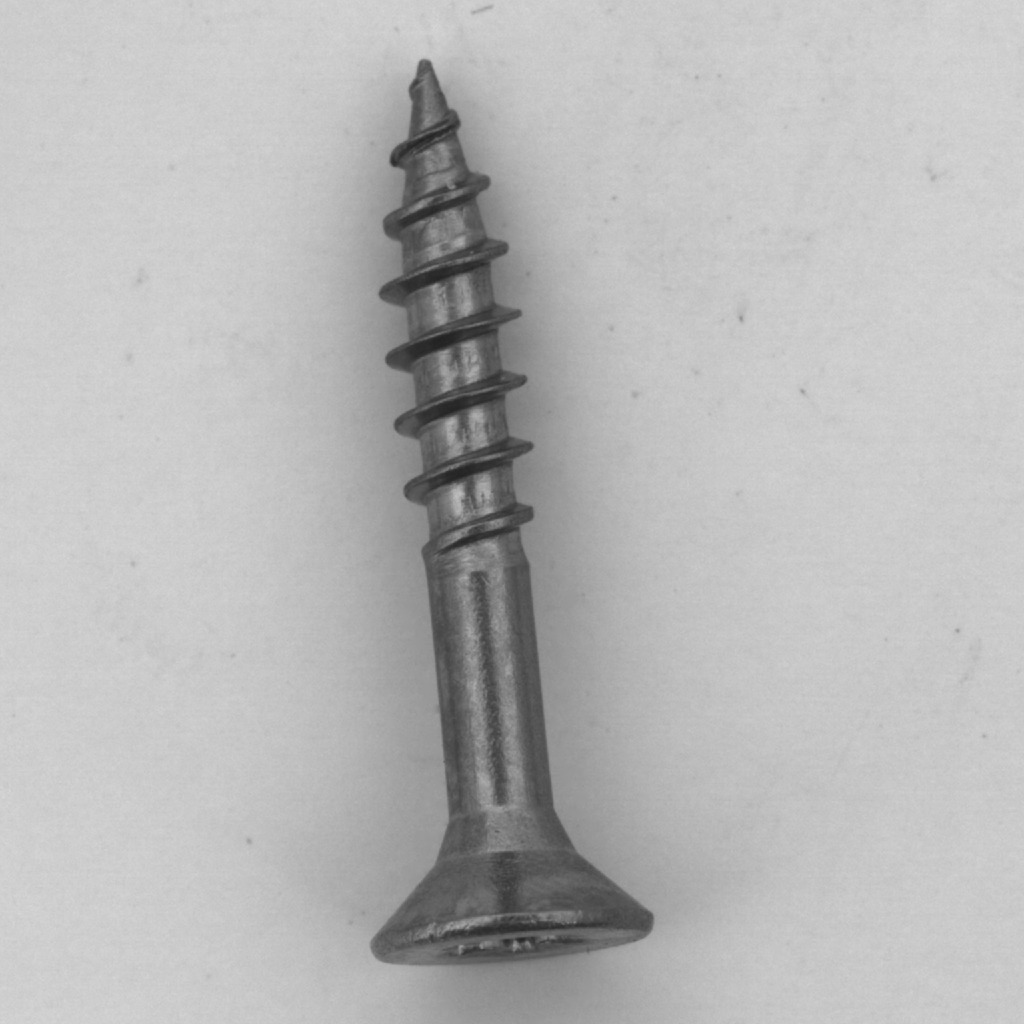good: (341, 39, 677, 981)
